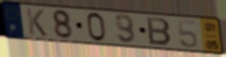0: (86, 12, 108, 43)
5: (175, 18, 199, 49)
8: (52, 9, 74, 41)
9: (114, 13, 138, 46)
B: (145, 16, 174, 47)
K: (25, 7, 49, 38)
